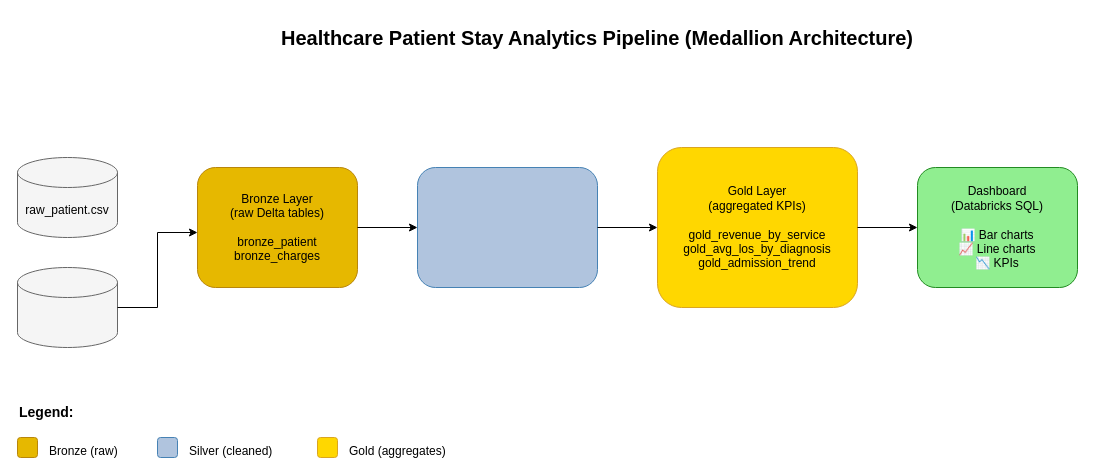
The diagram is 1095 pixels wide and 475 high, and some of its shapes have lost their labels. The centre of each missing label's shape, as x and y in pixels:
raw_charges.csv: [67,307]
Silver Layer (cleaned, joined, enriched) silver_patient_charges (41,213 rows): [507,227]
